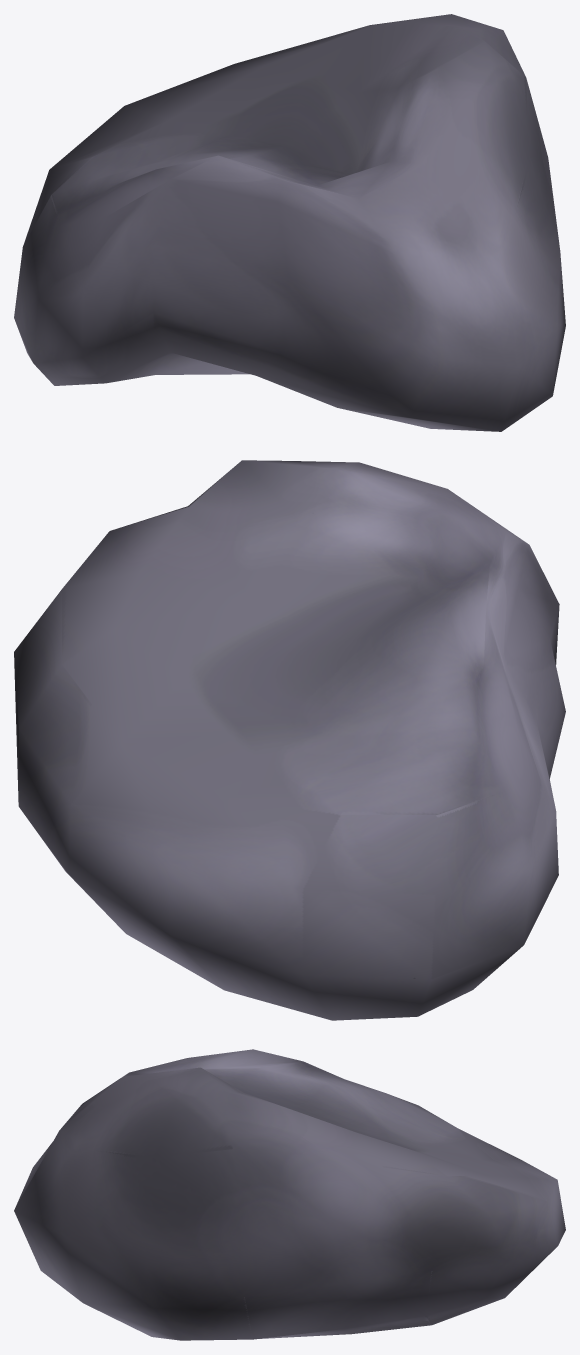
Rendered from asteroide2.fbx.
3 views of the same model, one above another, from view 1: azimuth 30°, elevation 25°; view 2: azimuth 150°, elevation 25°; view 3: azimuth 270°, elevation 25° (orthographic). The views are drawn at different scales.
Visible parts, largest first — view 1: Asteroide2; view 2: Asteroide2; view 3: Asteroide2.
Part boxes in pixels (left/top/right/bottom): Asteroide2: left=14, top=14, right=565, bottom=431; Asteroide2: left=14, top=460, right=565, bottom=1020; Asteroide2: left=14, top=1049, right=565, bottom=1340.
Bounding box in the file's own units: 375 × 280 × 499.
Materials: 1 (1 with a texture image).
